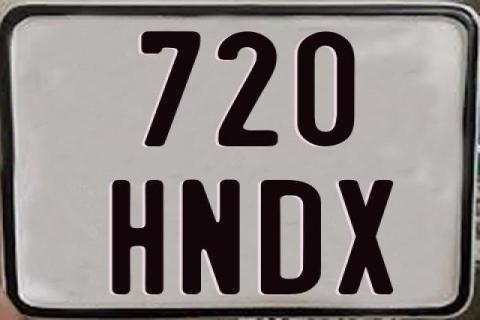0: (140, 30, 205, 146), (218, 29, 282, 145), (296, 31, 355, 149)
D: (260, 180, 324, 298)
H: (109, 179, 161, 299)
N: (179, 178, 239, 298)
X: (338, 179, 394, 296)
